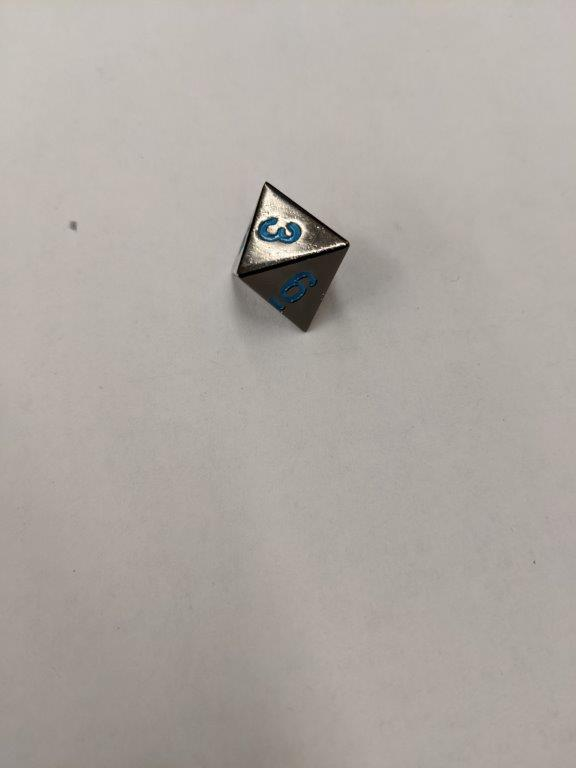d8-3: (226, 180, 353, 332)
